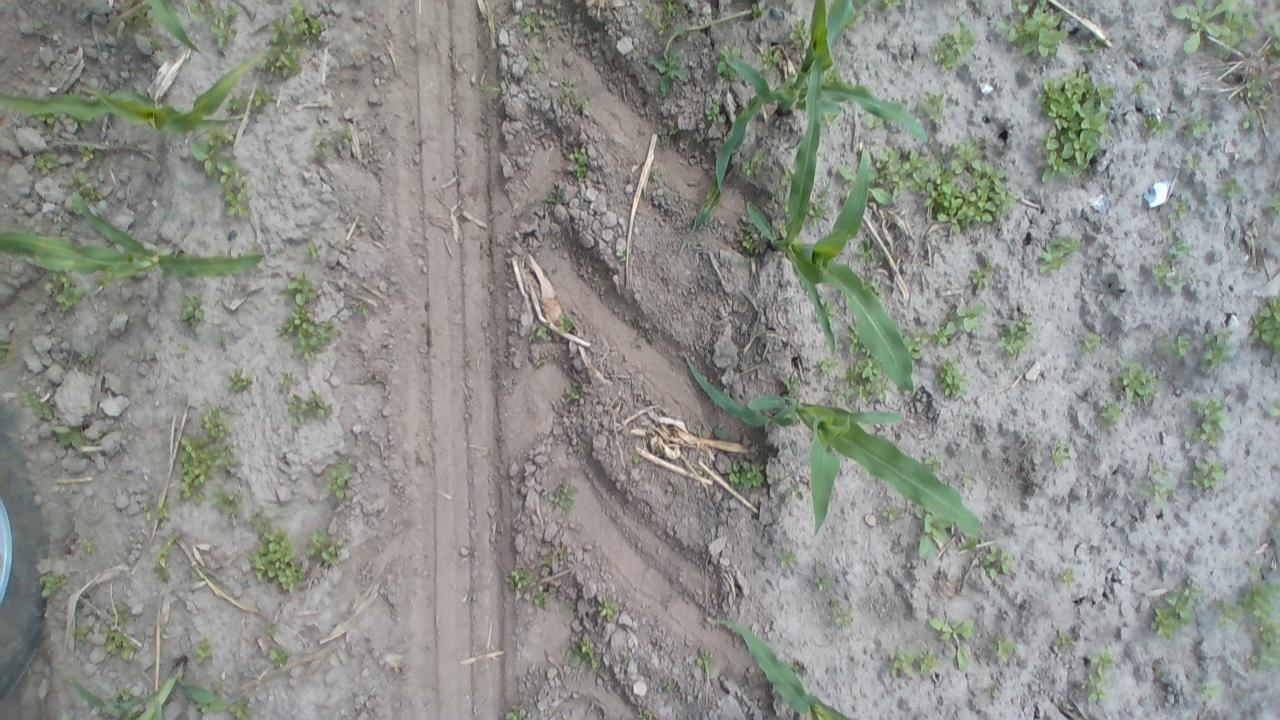Maize: (746, 60, 916, 412), (693, 2, 946, 236), (682, 352, 981, 544), (2, 50, 263, 140), (0, 190, 266, 276), (706, 616, 847, 720), (64, 654, 227, 720), (142, 0, 202, 54), (156, 530, 197, 584)
Weeds: (652, 1, 766, 96), (1041, 76, 1114, 183), (928, 162, 1015, 240), (1218, 579, 1280, 672), (248, 515, 308, 592), (996, 0, 1070, 60), (276, 307, 334, 362), (1171, 0, 1230, 54), (1148, 582, 1198, 638), (930, 21, 979, 75), (177, 437, 213, 508), (928, 617, 974, 669), (1182, 398, 1228, 446), (933, 304, 984, 346), (846, 356, 890, 403), (1244, 72, 1273, 134), (1248, 295, 1280, 351), (914, 512, 951, 560), (269, 3, 305, 52), (1112, 362, 1154, 402), (859, 238, 887, 298), (1038, 234, 1078, 274), (995, 318, 1034, 357), (191, 140, 233, 176), (288, 393, 333, 426), (1202, 321, 1232, 364), (1186, 458, 1226, 490), (1152, 255, 1187, 290), (1222, 1, 1258, 34), (727, 459, 765, 490), (876, 148, 910, 182), (306, 532, 340, 564), (560, 636, 594, 668), (190, 0, 240, 21), (715, 46, 744, 82), (1144, 468, 1174, 502), (940, 360, 966, 397), (904, 325, 930, 362), (202, 407, 232, 439), (986, 546, 1013, 580), (180, 295, 205, 330), (328, 466, 353, 500), (212, 487, 244, 513), (300, 16, 326, 48), (846, 324, 871, 357), (924, 93, 946, 130), (210, 20, 237, 50), (1095, 401, 1125, 428), (54, 424, 85, 450), (289, 273, 315, 304), (552, 480, 576, 511), (276, 50, 303, 77), (791, 16, 810, 52), (106, 633, 132, 659), (920, 446, 946, 472), (225, 368, 252, 393), (224, 190, 248, 218), (914, 646, 936, 676), (1090, 650, 1114, 676), (890, 651, 913, 678), (1169, 233, 1192, 260), (1262, 18, 1280, 52), (1170, 194, 1192, 221), (774, 170, 791, 204), (1144, 112, 1168, 136), (1086, 682, 1110, 706), (740, 152, 764, 176), (906, 150, 924, 182), (505, 567, 530, 590), (970, 268, 991, 295), (775, 548, 800, 570), (1169, 334, 1190, 360), (227, 697, 250, 720), (1179, 110, 1203, 132), (206, 128, 232, 148), (704, 103, 726, 126), (522, 12, 543, 36), (533, 585, 557, 606), (36, 154, 58, 176), (1079, 334, 1101, 356), (542, 184, 566, 204), (988, 636, 1013, 654), (696, 647, 714, 672), (957, 140, 979, 160), (311, 140, 331, 162), (560, 76, 578, 100), (808, 200, 826, 224), (216, 445, 236, 466), (134, 8, 152, 31), (596, 598, 616, 618), (1226, 177, 1244, 199), (195, 640, 211, 664), (741, 230, 760, 250), (1055, 632, 1076, 650), (33, 404, 55, 421), (836, 604, 852, 627), (77, 146, 97, 164), (262, 52, 280, 72), (1052, 448, 1070, 468), (278, 371, 294, 393), (270, 650, 288, 669), (306, 241, 324, 260), (1060, 568, 1078, 587), (253, 87, 270, 107), (1198, 682, 1219, 698), (877, 504, 898, 520), (814, 358, 836, 373), (228, 94, 246, 112), (849, 9, 866, 28), (28, 17, 48, 33), (1265, 196, 1280, 217), (762, 53, 779, 71), (782, 376, 798, 395), (40, 576, 55, 596), (86, 182, 102, 200), (532, 325, 550, 341), (36, 113, 59, 125), (814, 574, 830, 591), (958, 468, 974, 485), (337, 126, 352, 144), (560, 314, 574, 331), (504, 707, 522, 720), (118, 687, 134, 701), (74, 624, 88, 640), (1130, 80, 1144, 96), (824, 69, 842, 81), (1266, 404, 1280, 418), (23, 393, 38, 406), (154, 508, 169, 520), (664, 483, 680, 494), (54, 574, 66, 587), (80, 352, 94, 363), (574, 165, 586, 177), (882, 0, 902, 7), (638, 709, 649, 720), (195, 702, 209, 710), (630, 456, 642, 465), (573, 149, 583, 159), (87, 542, 96, 553), (114, 614, 123, 622)
